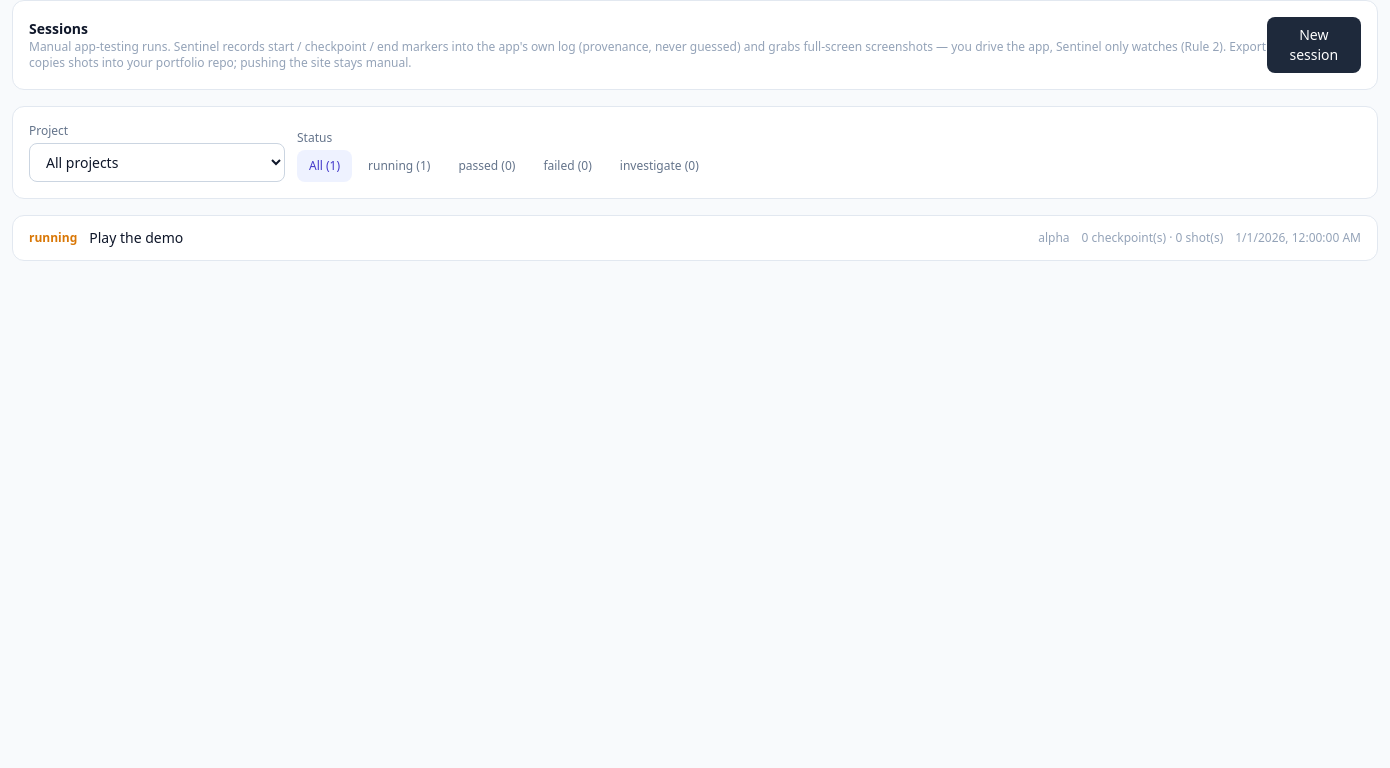
Test: Sessions › records a checkpoint from the detail pane
Click the text "Play the demo": (136, 238) [89,228,183,247]
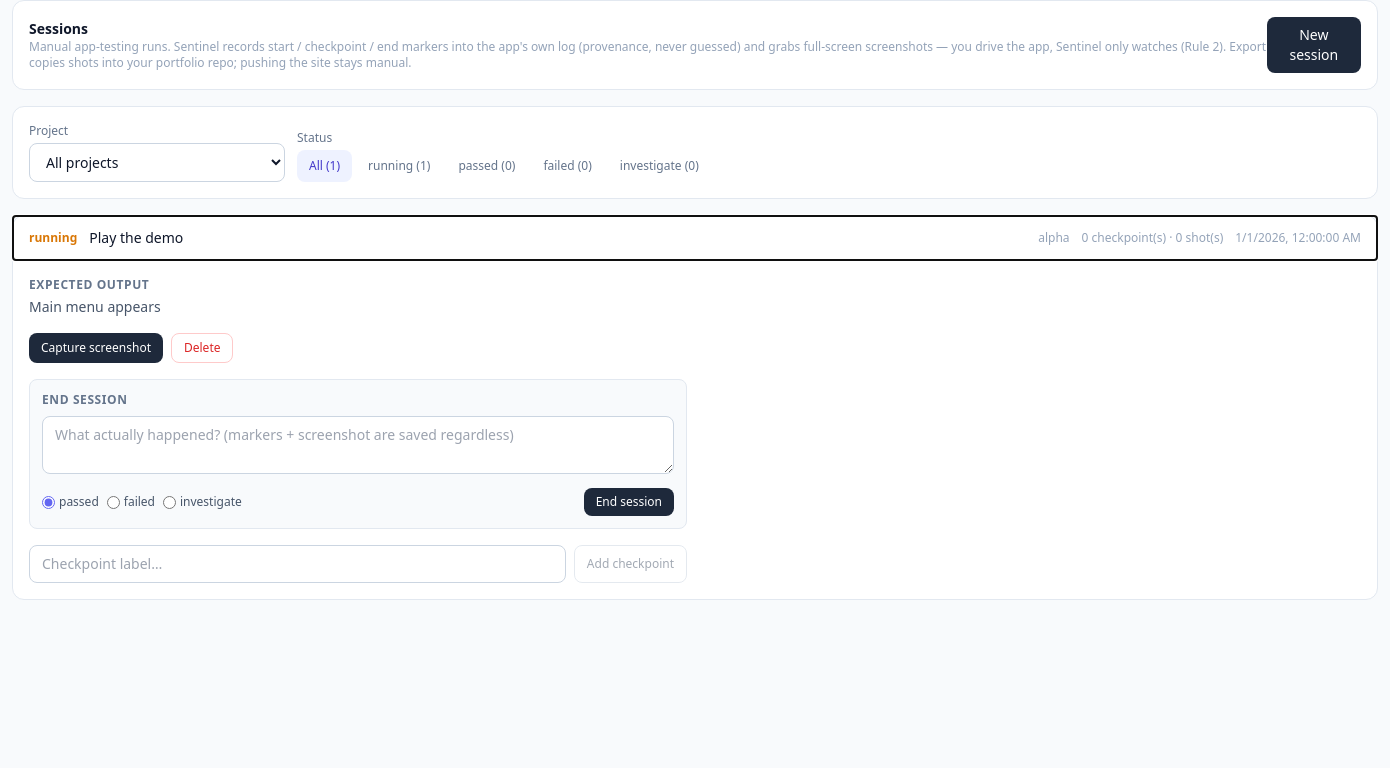
In the field with placeholder "Checkpoint label…": (297, 564) [29,545,566,583], type "hud visible"
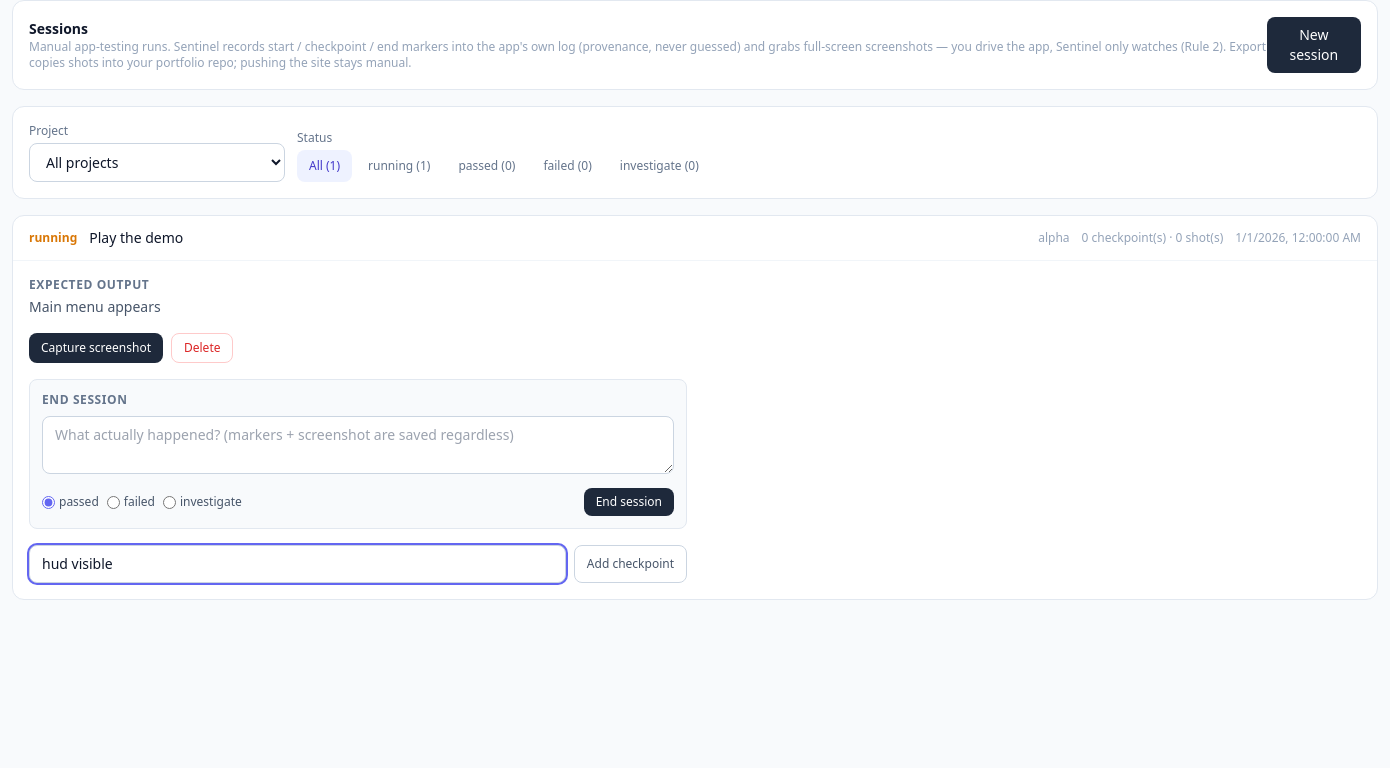
Click the button "Add checkpoint": (630, 564) [574,545,687,583]
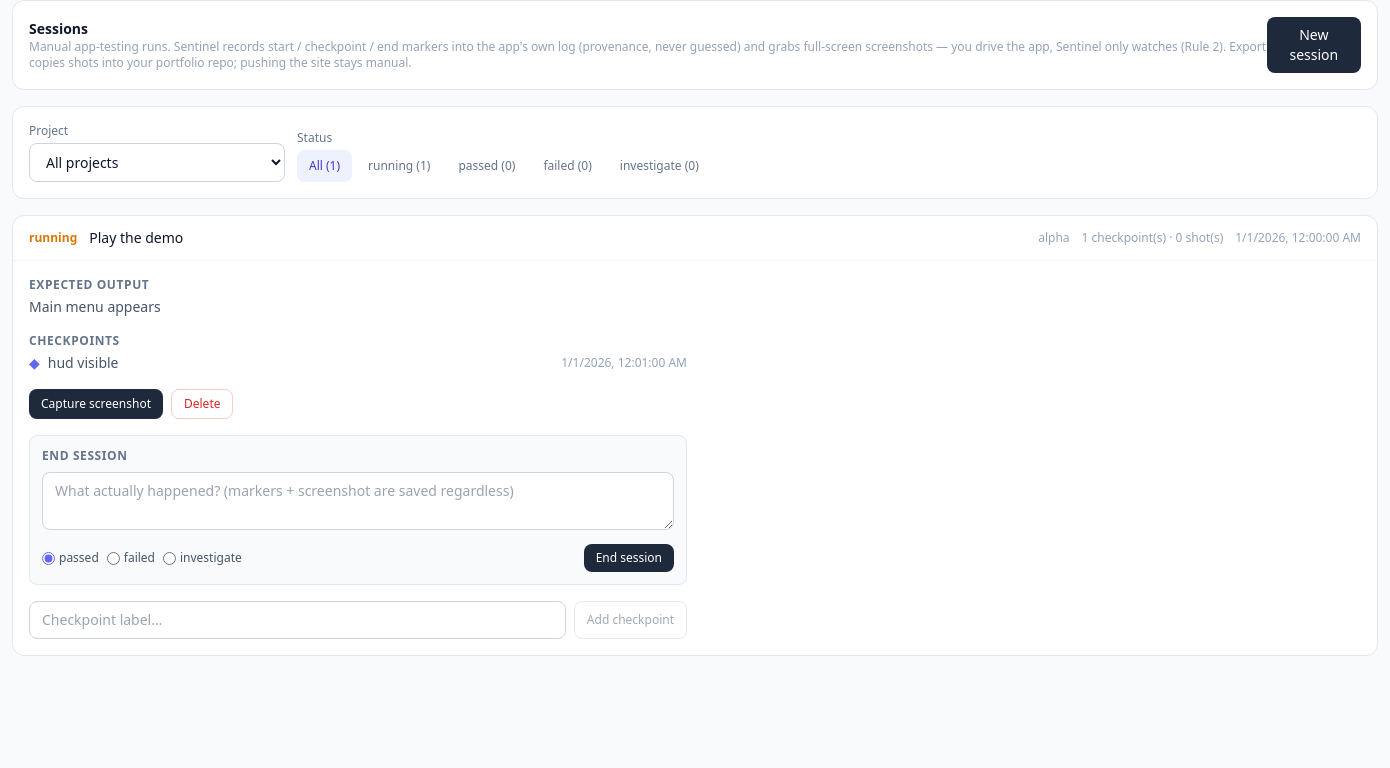
Now the text "hud visible" is shown, box [48,353,118,372]
